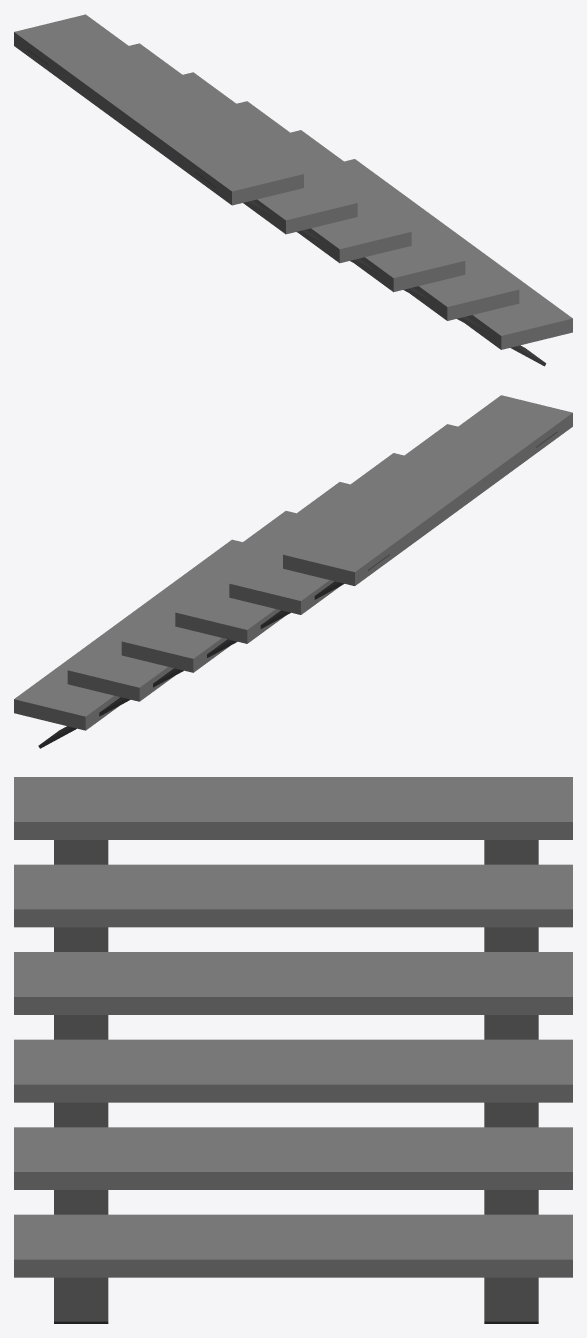
The model's file is stairs_01.fbx.
3 renders of one model, top to bottom at view 1: azimuth 30°, elevation 25°; view 2: azimuth 150°, elevation 25°; view 3: azimuth 270°, elevation 25°, orthographic. The views are drawn at different scales.
Visible parts, largest first — view 1: stairs_01; view 2: stairs_01; view 3: stairs_01.
Boxes of the visible parts, x1=… form: stairs_01: x1=14, y1=14, x2=572, y2=366; stairs_01: x1=14, y1=395, x2=572, y2=748; stairs_01: x1=14, y1=777, x2=572, y2=1323.
Size of the model in its own units: 209 by 156 by 231.
